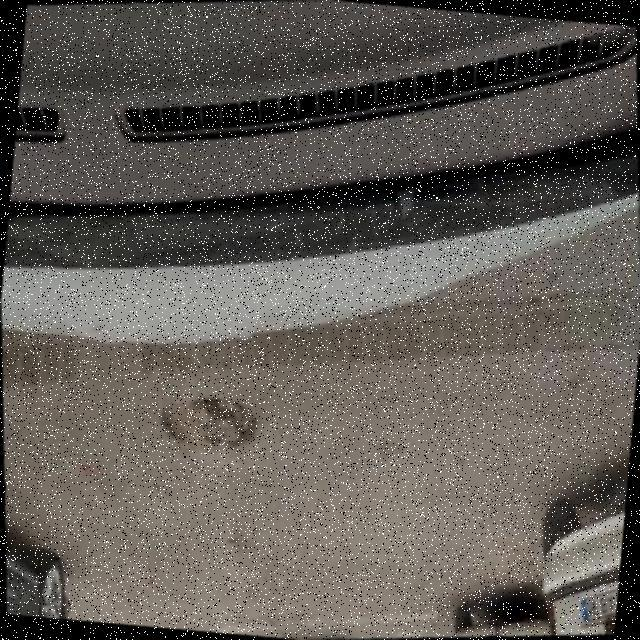Pothole: (158, 396, 258, 452)
